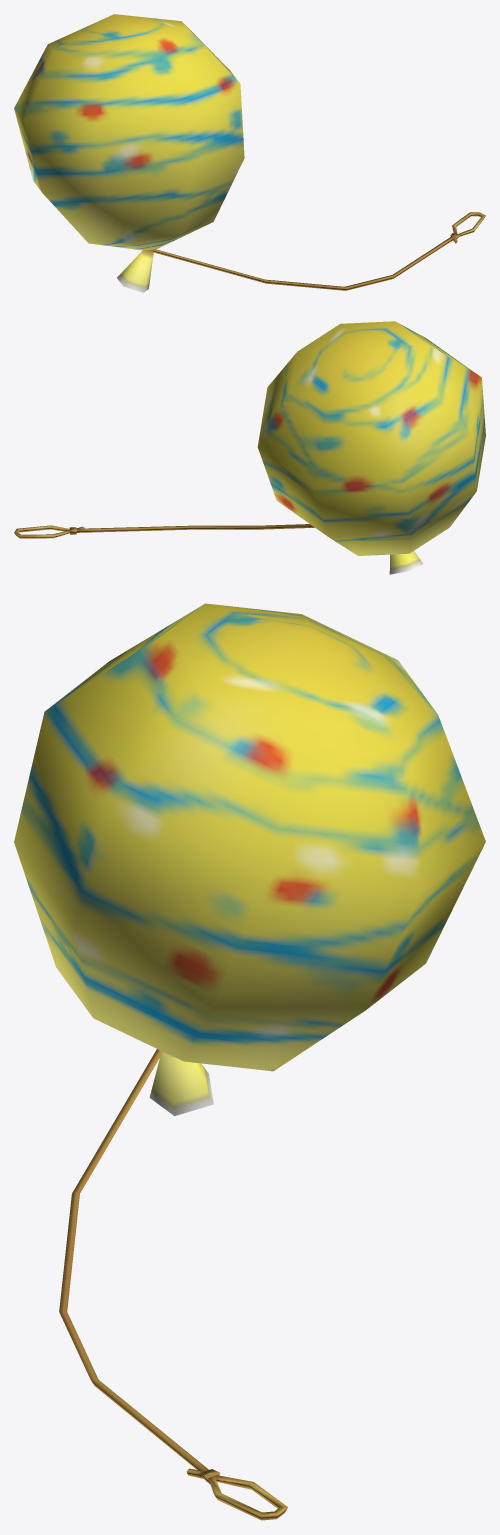
File: jsf_WaterBalloon_06_b.fbx
3 views of the same model, one above another, from view 1: azimuth 30°, elevation 25°; view 2: azimuth 150°, elevation 25°; view 3: azimuth 270°, elevation 25° (orthographic). The views are drawn at different scales.
Visible parts, largest first — view 1: jsf_WaterBalloon_06_b; view 2: jsf_WaterBalloon_06_b; view 3: jsf_WaterBalloon_06_b.
Part boxes in pixels (x1,y1,x2,y2): jsf_WaterBalloon_06_b: (14,14,485,292); jsf_WaterBalloon_06_b: (14,321,485,574); jsf_WaterBalloon_06_b: (14,603,485,1520).
Bounding box in the file's own units: 24.35 × 14.34 × 11.11.
